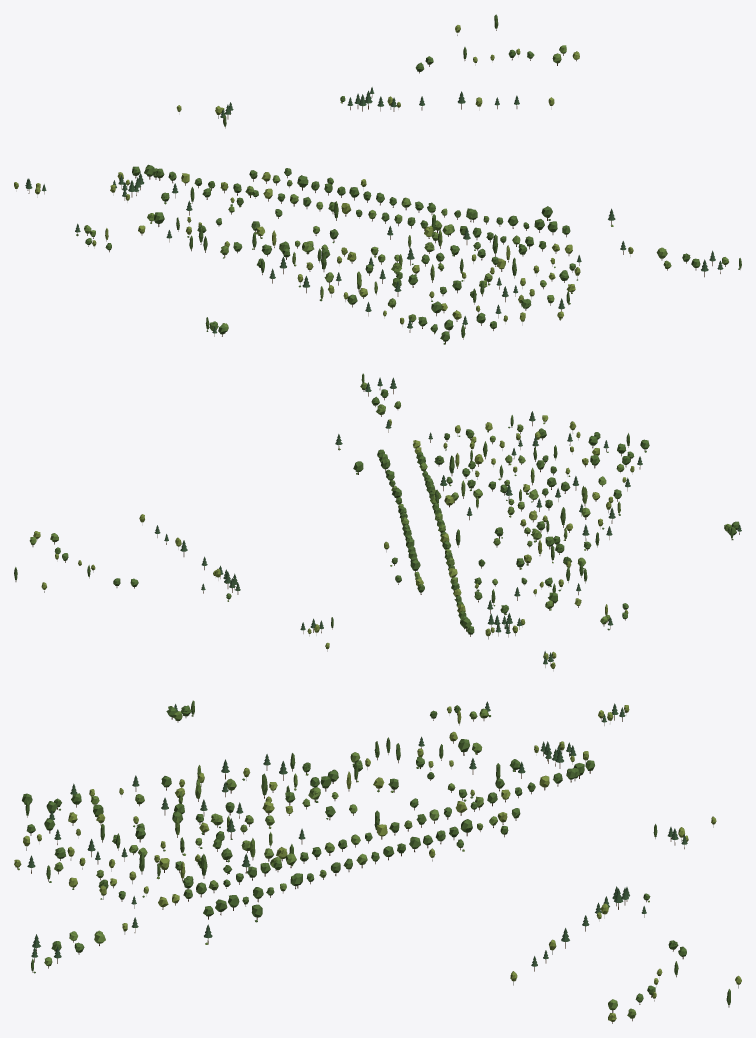
File: Natura_1_2.fbx
3 renders of one model, top to bottom at view 1: azimuth 30°, elevation 25°; view 2: azimuth 150°, elevation 25°; view 3: azimuth 270°, elevation 25°, orthographic. The views are drawn at different scales.
Bounding box in the file's own units: 503 × 19.14 × 496.
